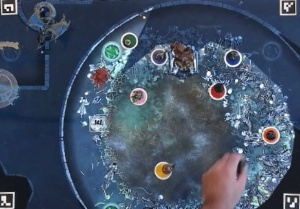blue: (221, 47, 245, 68)
green: (121, 30, 142, 51)
orange: (260, 125, 280, 144)
pink: (129, 86, 148, 104)
red: (209, 81, 229, 101)
violet: (150, 47, 169, 66)
yellow: (151, 160, 174, 181)
